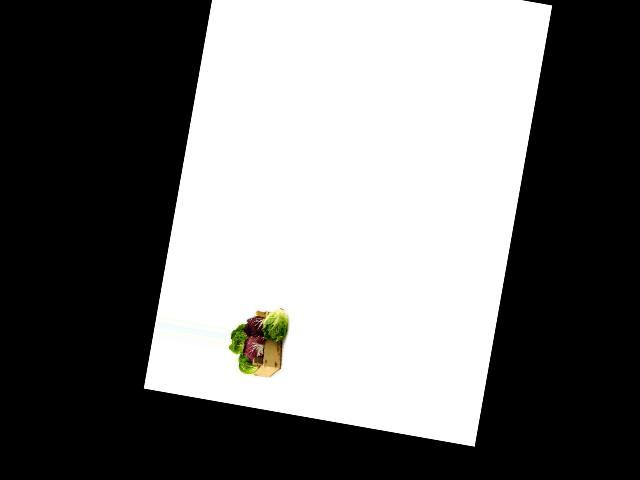lettuce: (227, 322, 253, 356)
